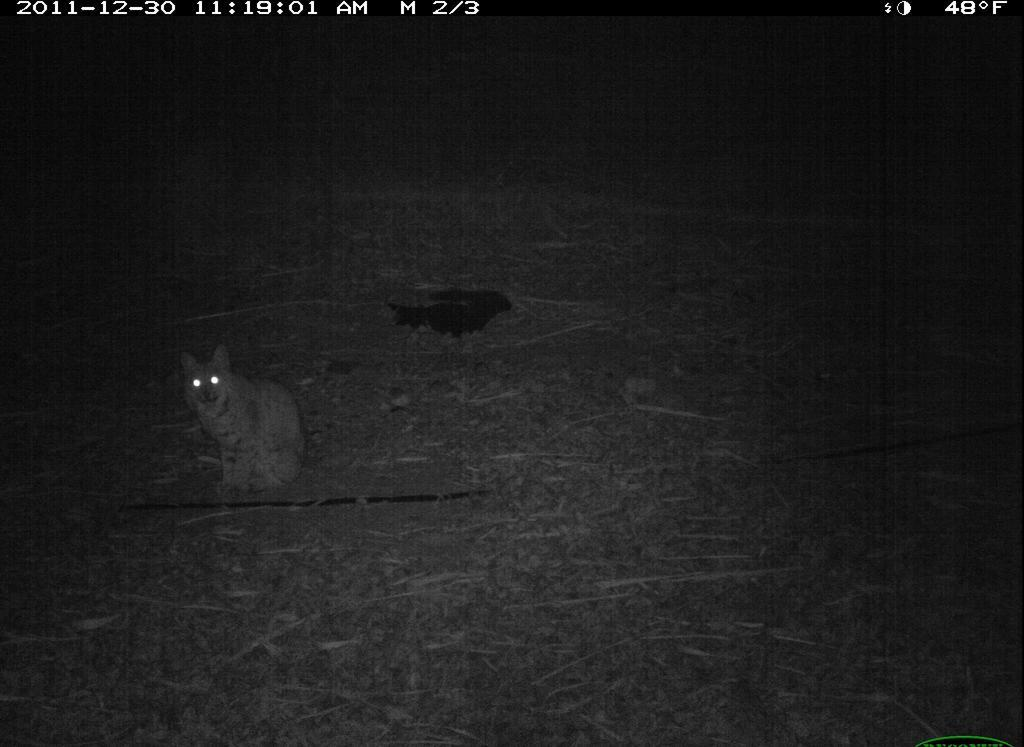bobcat: (181, 332, 308, 495)
